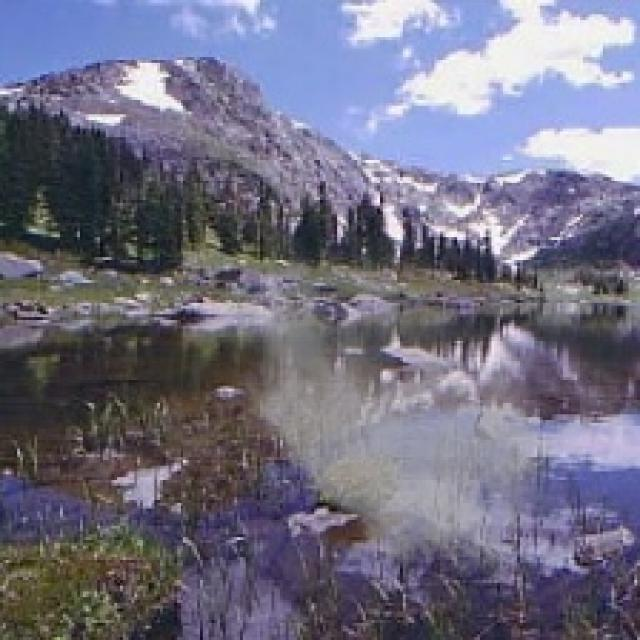Smoke: (205, 199, 578, 592)
